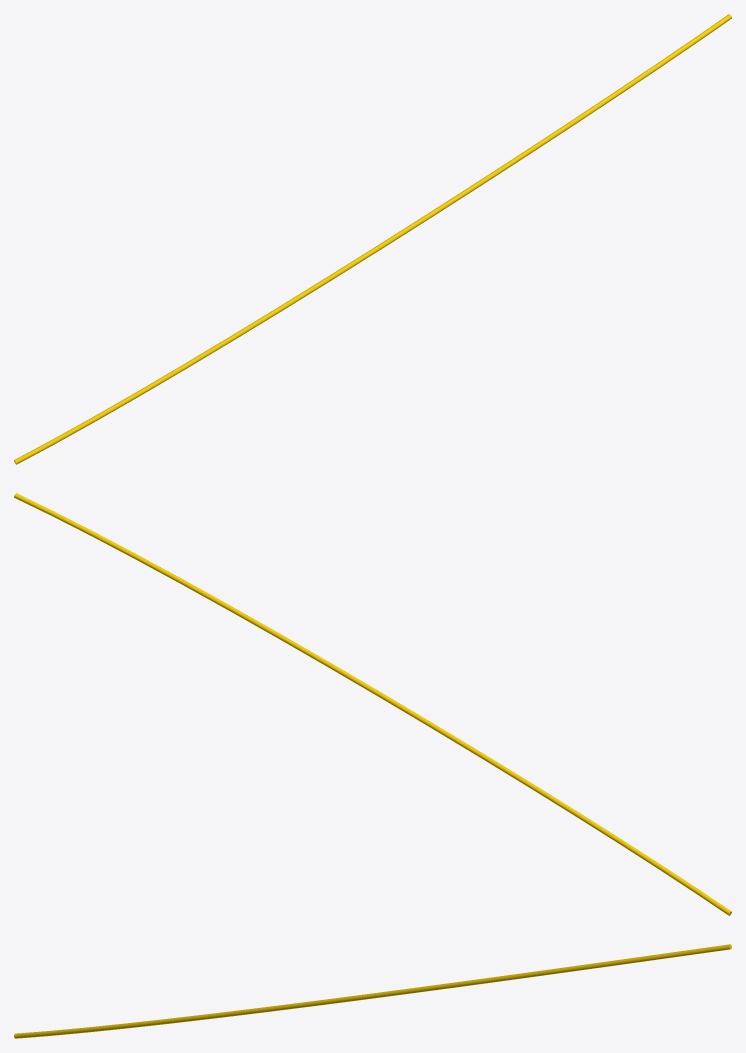
The model's file is Event_421364160_track_2.fbx.
3 views of the same model, one above another, from view 1: azimuth 30°, elevation 25°; view 2: azimuth 150°, elevation 25°; view 3: azimuth 330°, elevation 25° (orthographic). The views are drawn at different scales.
Visible parts, largest first — view 1: Model; view 2: Model; view 3: Model.
Boxes of the visible parts, x1,y1,x2,y2 form: Model: (14,14,731,464); Model: (14,493,731,915); Model: (14,944,731,1038).
Size of the model in its own units: 6.34 by 2.22 by 0.2833.
